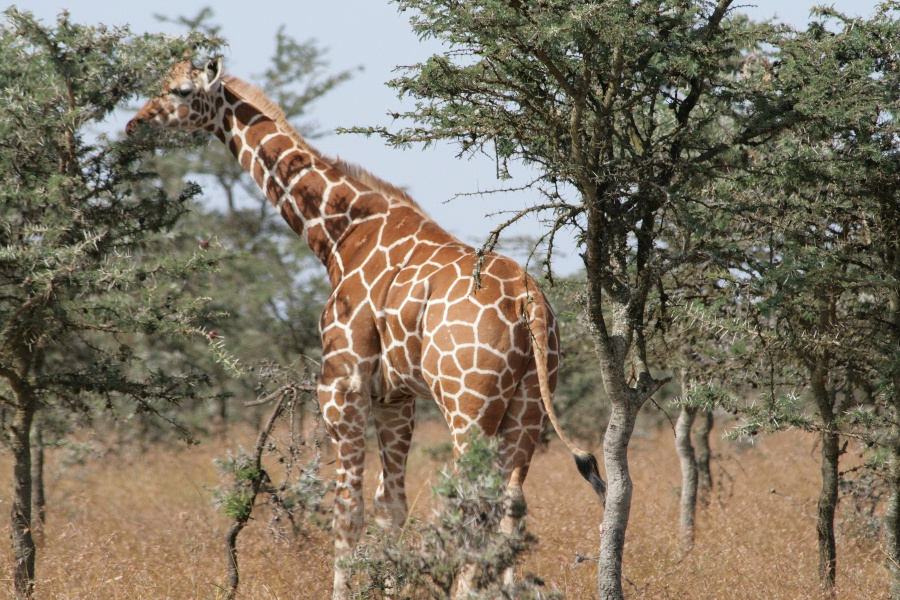giraffe: (120, 47, 577, 594)
